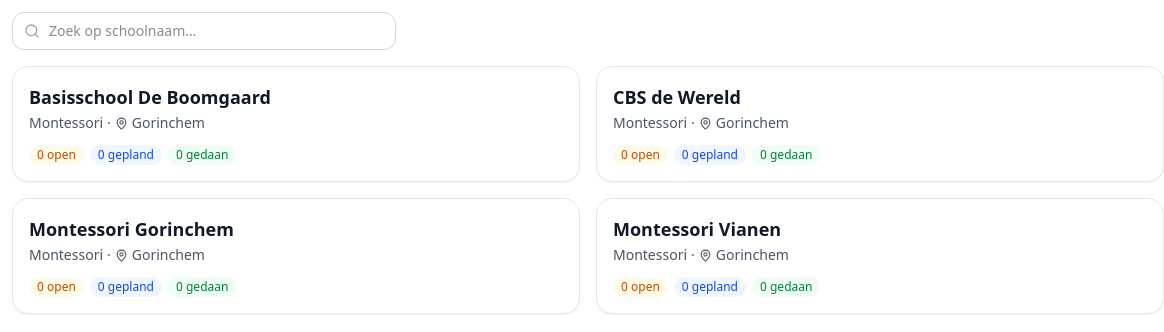
Scenario: ScholenLijstClient — zoekbalk › toont een lege staat met de getypte zoekterm wanneer niets matcht
The width and height of the screenshot is (1164, 332).
Type "xyz-onbestaand" into the search field labelled "Zoek op schoolnaam". click: (204, 31)
box: [12,12,396,50]
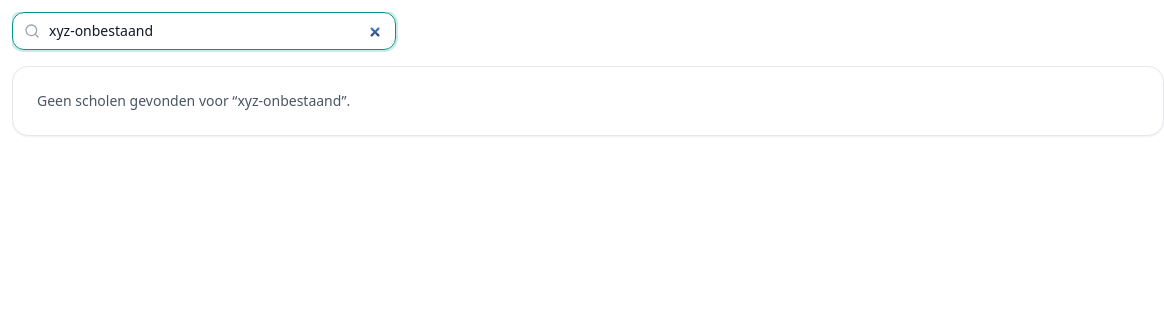
Now no links are shown
Now the text "Geen scholen gevonden voor “xyz-onbestaand”." is shown, box [12,66,1163,136]
